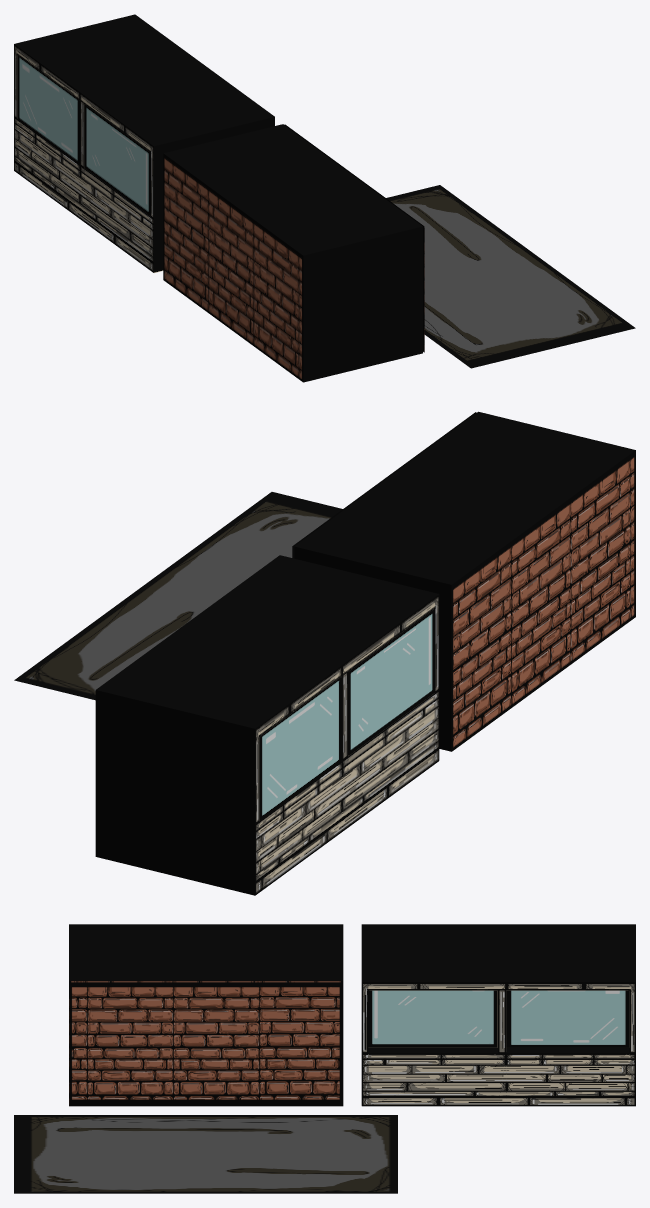
The model's file is piso1.fbx.
3 renders of one model, top to bottom at view 1: azimuth 30°, elevation 25°; view 2: azimuth 150°, elevation 25°; view 3: azimuth 270°, elevation 25°, orthographic. The views are drawn at different scales.
Visible parts, largest first — view 1: pCube1, pCube2, pPlane1; view 2: pCube2, pCube1, pPlane1; view 3: pCube1, pCube2, pPlane1.
Boxes of the visible parts, box(x1,y1,x2,y2) form: pCube1: box(163, 124, 424, 382); pCube2: box(14, 14, 274, 272); pPlane1: box(386, 185, 635, 368); pCube2: box(95, 555, 439, 895); pCube1: box(292, 411, 635, 751); pPlane1: box(14, 492, 342, 700); pCube1: box(69, 924, 343, 1106); pCube2: box(361, 924, 635, 1106); pPlane1: box(14, 1115, 397, 1193).
Size of the model in its own units: 2.51 by 1 by 4.53.
3 materials, 3 textured.
